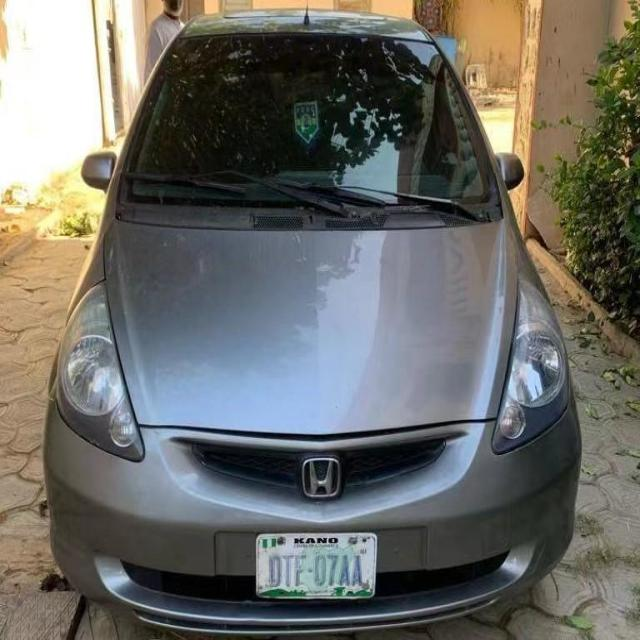Nigerian License Plate - vdataset benjamin-daria: (252, 528, 381, 606)
